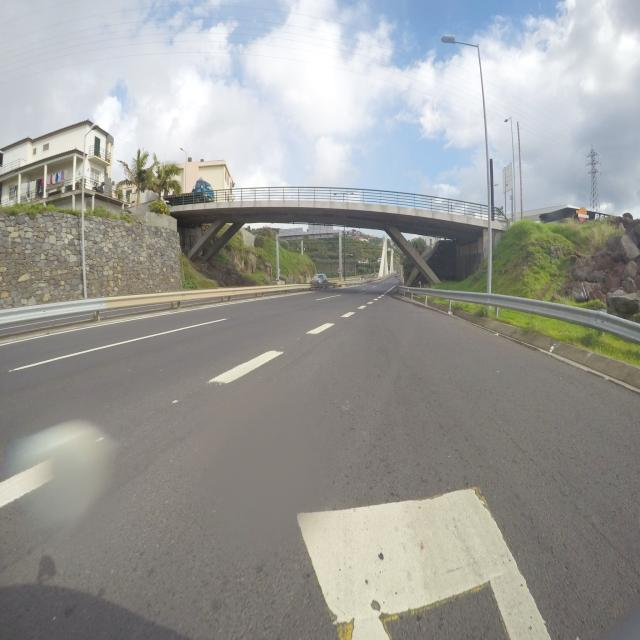car: (309, 272, 330, 290)
